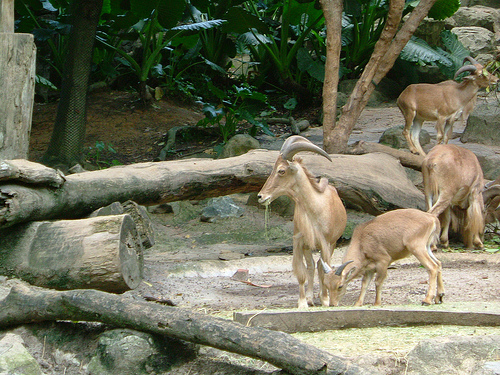goat: (256, 134, 349, 308), (319, 206, 449, 309), (397, 56, 498, 158), (423, 143, 489, 252)
